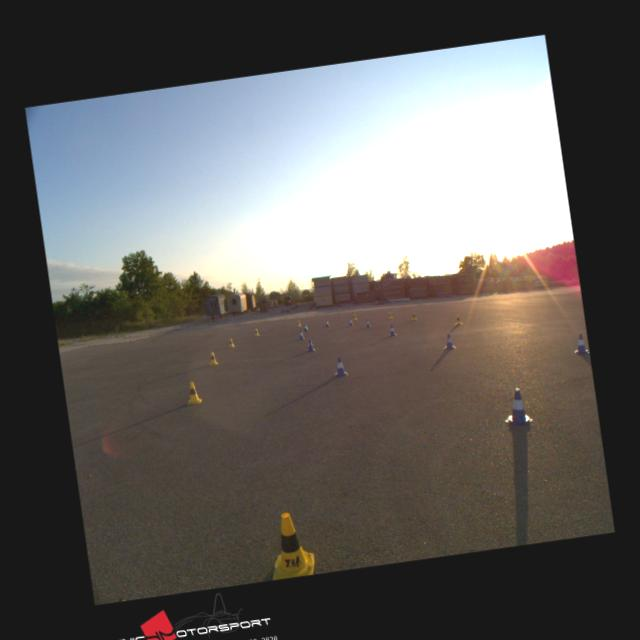blue_cone: (500, 386, 533, 426), (572, 333, 590, 355), (332, 355, 348, 376), (442, 334, 456, 349), (306, 337, 316, 351), (386, 323, 396, 336), (364, 319, 372, 328), (298, 329, 305, 339), (347, 318, 354, 327), (303, 323, 309, 332), (324, 319, 330, 327)
yellow_cone: (264, 509, 317, 580), (184, 381, 202, 404), (207, 352, 218, 366), (454, 313, 462, 325), (228, 338, 235, 348), (253, 328, 260, 336), (387, 311, 393, 319), (411, 312, 417, 320), (296, 320, 302, 327), (353, 314, 357, 320)
